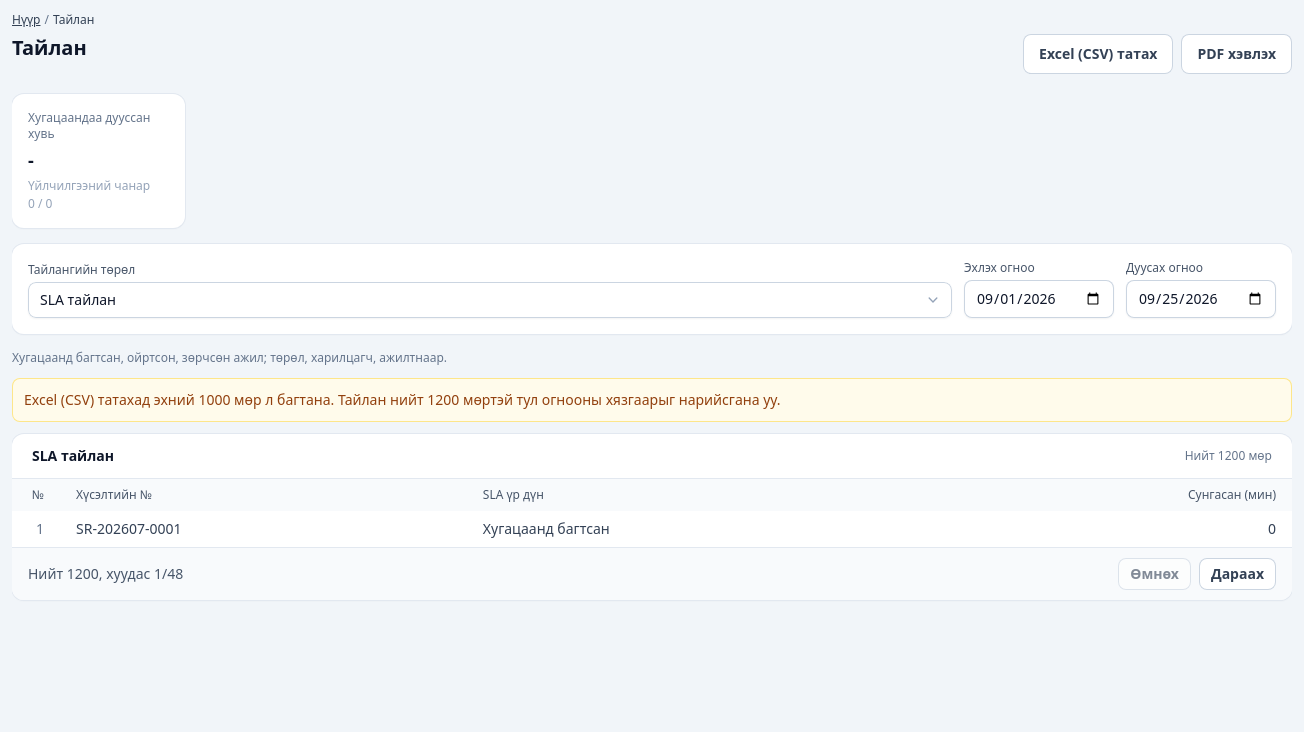
Test: ReportsPage › states how much of the report a capped download actually contained
The image size is (1304, 732).
Step 1. Click the button "Excel (CSV) татах" → click(1098, 54), box [1023,34,1173,74]
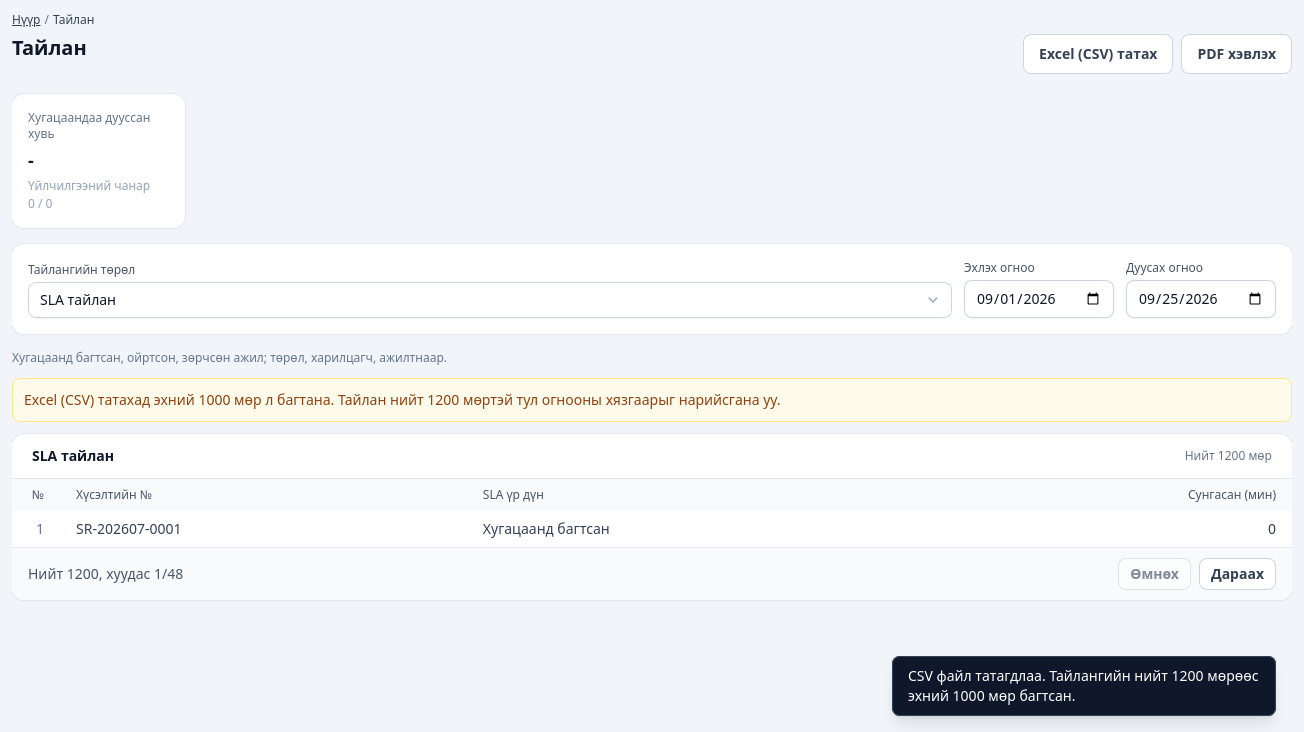
Result: the text "CSV файл татагдлаа. Тайлангийн нийт 1200 мөрөөс эхний 1000 мөр багтсан." is shown at [892,656,1276,716]
